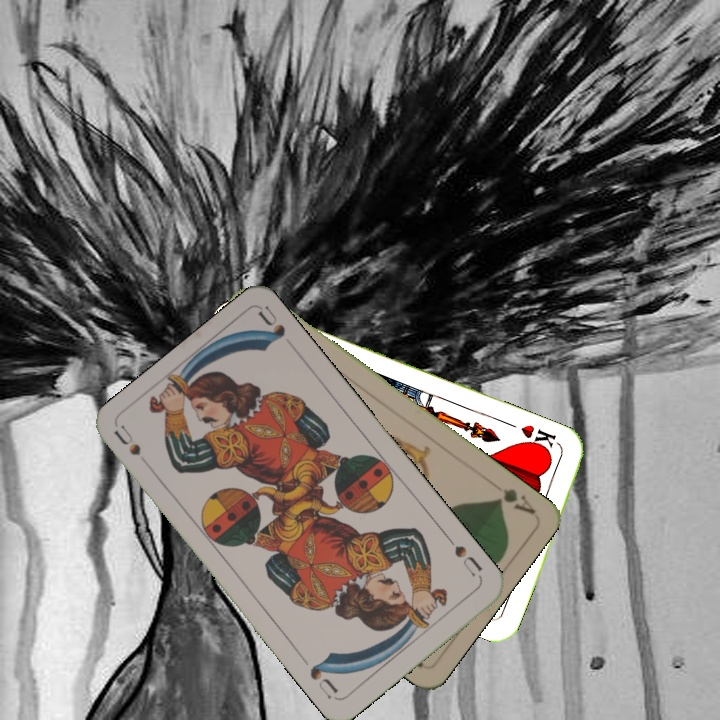GA: (491, 484, 538, 518)
HK: (517, 420, 559, 456)
SU: (442, 532, 485, 581), (110, 422, 144, 459)
